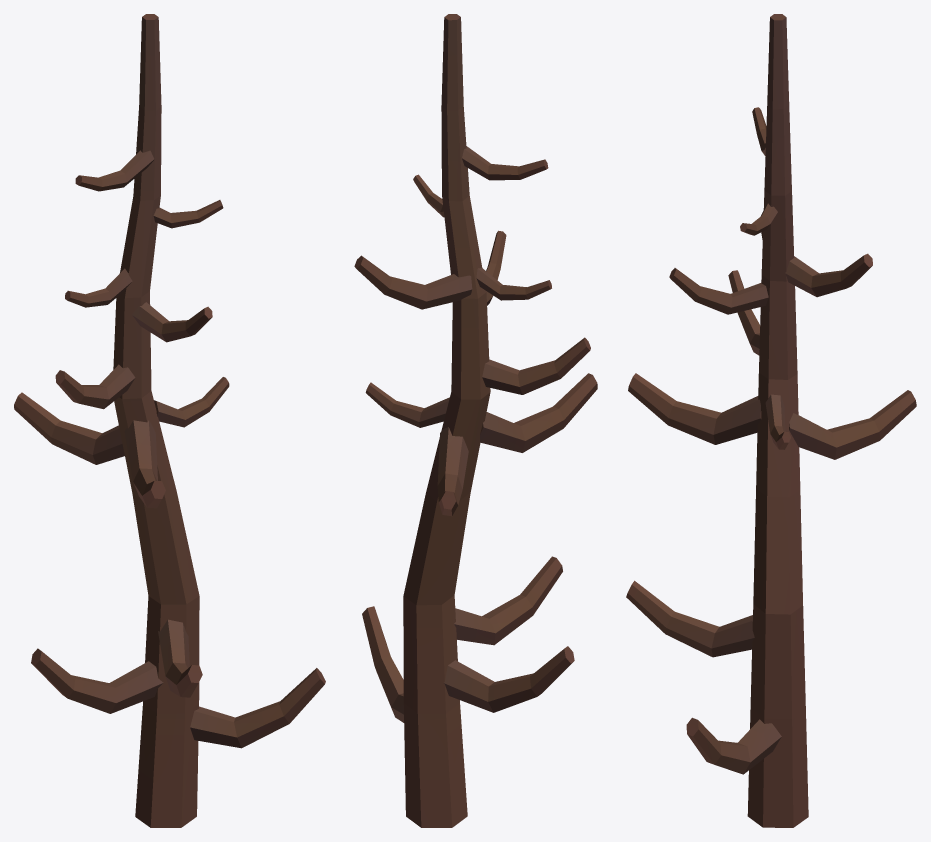
File: deadtree1.fbx
3 views of the same model, side by side, from view 1: azimuth 30°, elevation 25°; view 2: azimuth 150°, elevation 25°; view 3: azimuth 270°, elevation 25° (orthographic).
Visible parts, largest first — view 1: Cylinder.014; view 2: Cylinder.014; view 3: Cylinder.014.
Part boxes in pixels (left/top/right/bottom): Cylinder.014: left=14, top=14, right=325, bottom=827; Cylinder.014: left=354, top=14, right=597, bottom=827; Cylinder.014: left=626, top=14, right=916, bottom=827.
Size of the model in its own units: 277 by 846 by 281.
